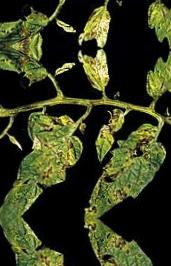Tomato Septoria leaf spot: (0, 107, 85, 218), (80, 127, 165, 220), (0, 44, 57, 85), (77, 47, 113, 95), (89, 113, 125, 156), (150, 49, 171, 99)
